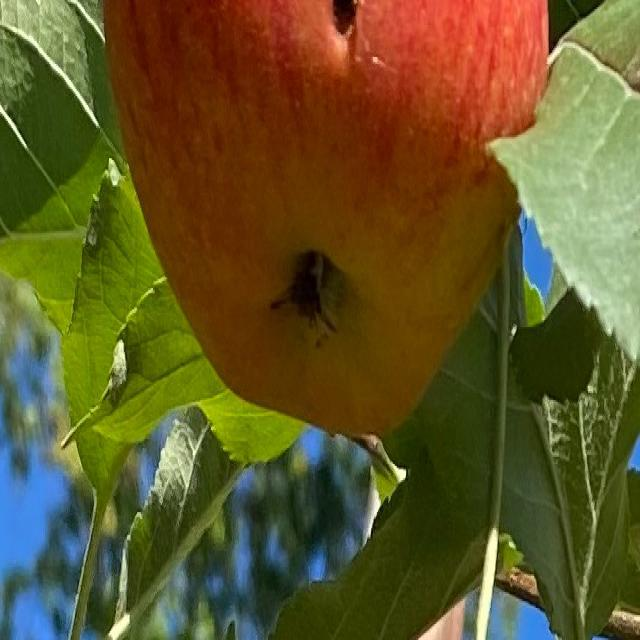Apples: (104, 0, 550, 438)
